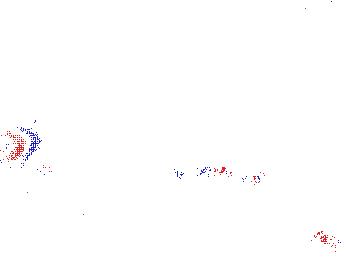red belly glassfish: (174, 162, 236, 183), (222, 168, 268, 192)
redtail glassfish: (1, 110, 49, 175)
